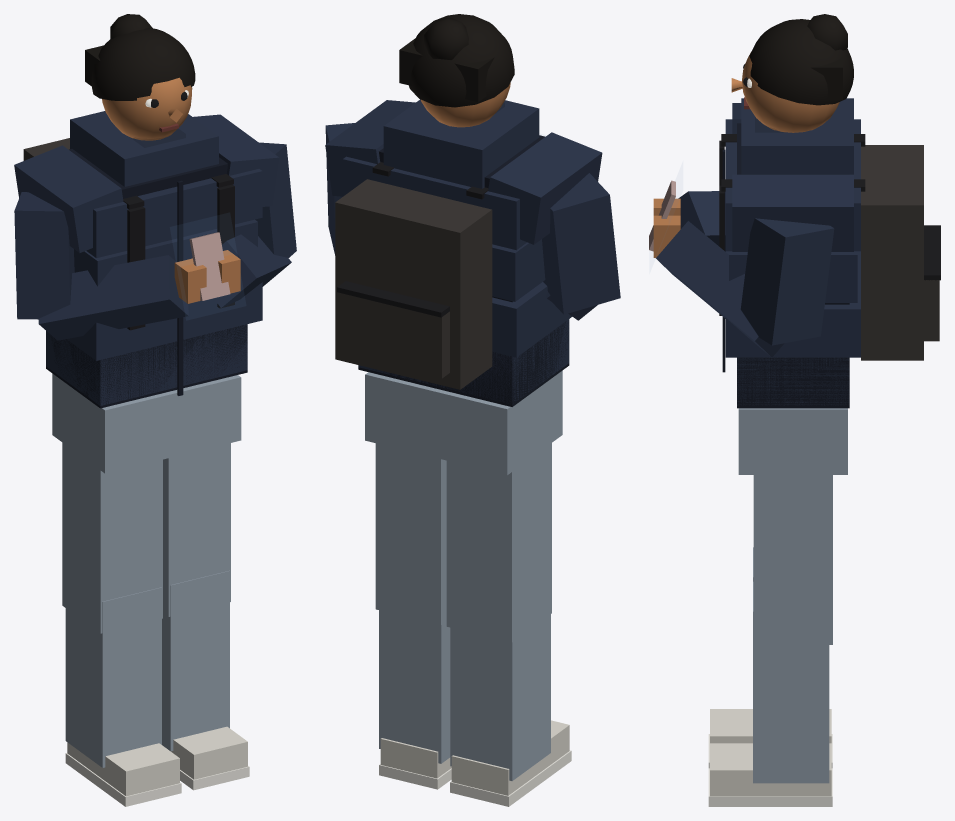
The model's file is passenger_texter_standing.glb.
3 views of the same model, side by side, from view 1: azimuth 30°, elevation 25°; view 2: azimuth 150°, elevation 25°; view 3: azimuth 270°, elevation 25° (orthographic). The views are drawn at different scales.
Visible parts, largest first — view 1: passenger_texter_standing, Head, Head_Skin, Body_Skin, HabitProp_phone; view 2: passenger_texter_standing, Head, Head_Skin; view 3: passenger_texter_standing, Head, Head_Skin, Body_Skin.
Part boxes in pixels (x1,y1,x2,y2): passenger_texter_standing: [14, 111, 296, 806]; Head: [85, 14, 195, 147]; Head_Skin: [102, 77, 192, 140]; Body_Skin: [174, 250, 240, 303]; HabitProp_phone: [189, 232, 230, 300]; passenger_texter_standing: [325, 99, 620, 806]; Head: [399, 14, 514, 109]; Head_Skin: [421, 82, 510, 127]; passenger_texter_standing: [656, 98, 940, 806]; Head: [744, 14, 853, 131]; Head_Skin: [731, 52, 839, 132]; Body_Skin: [653, 130, 774, 257].
Size of the model in its own units: 0.7405 by 1.86 by 0.6475.
